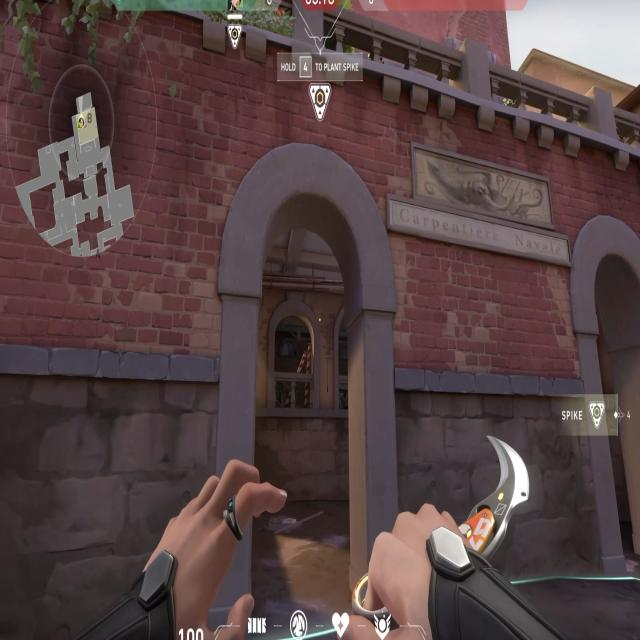B_Boathouse: (205, 113, 410, 639), (565, 197, 640, 624)
